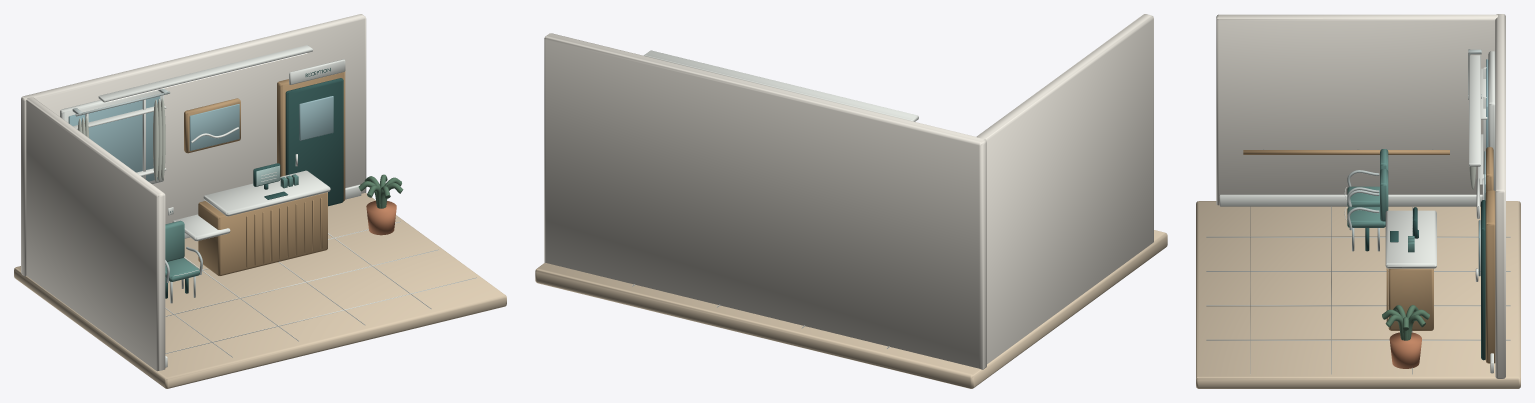
The model's file is reception.glb.
3 views of the same model, side by side, from view 1: azimuth 30°, elevation 25°; view 2: azimuth 150°, elevation 25°; view 3: azimuth 270°, elevation 25° (orthographic). The views are drawn at different scales.
Parts seen in each view (by area): view 1: Floor, SideWall, RearWall, ReceptionDesk, Door, Window, CounterTop, LightHousing, SeaPanel, DoorFrame, VisionPanel, Planter (+8 smaller); view 2: RearWall, SideWall, Floor, LightHousing; view 3: Floor, SideWall, RearWall, SideSkirting, CounterTop, ReceptionDesk, DoorFrame, LightHousing, WallHandrail, Planter, WindowFrame, Door (+7 smaller).
Part boxes in pixels (box(x1,y1,x2,y2)): Floor: box(14, 193, 506, 388); SideWall: box(26, 97, 165, 371); RearWall: box(21, 14, 366, 276); ReceptionDesk: box(198, 192, 327, 275); Door: box(285, 78, 343, 206); Window: box(68, 96, 160, 181); CounterTop: box(203, 170, 330, 216); LightHousing: box(98, 45, 312, 102); SeaPanel: box(189, 104, 239, 150); DoorFrame: box(277, 71, 345, 201); VisionPanel: box(299, 96, 333, 140); Planter: box(366, 201, 396, 235); RearWall: box(544, 33, 986, 369); SideWall: box(976, 14, 1153, 363); Floor: box(535, 230, 1167, 388); LightHousing: box(644, 50, 918, 121); Floor: box(1196, 201, 1520, 388); SideWall: box(1216, 14, 1497, 205); RearWall: box(1495, 14, 1505, 378); SideSkirting: box(1219, 194, 1482, 206); CounterTop: box(1385, 210, 1436, 268); ReceptionDesk: box(1388, 268, 1433, 330); DoorFrame: box(1485, 190, 1495, 363); LightHousing: box(1469, 55, 1480, 166); WallHandrail: box(1243, 150, 1449, 154); Planter: box(1389, 332, 1421, 368); WindowFrame: box(1488, 51, 1495, 190); Door: box(1481, 200, 1485, 360).
Size of the model in its own units: 6.2 by 3.25 by 4.8.
